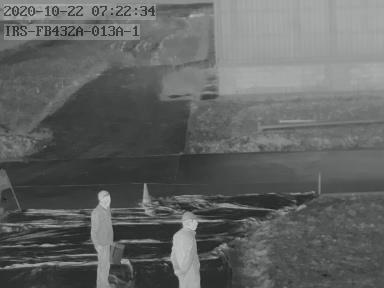person: (90, 190, 114, 287), (170, 211, 200, 288)
